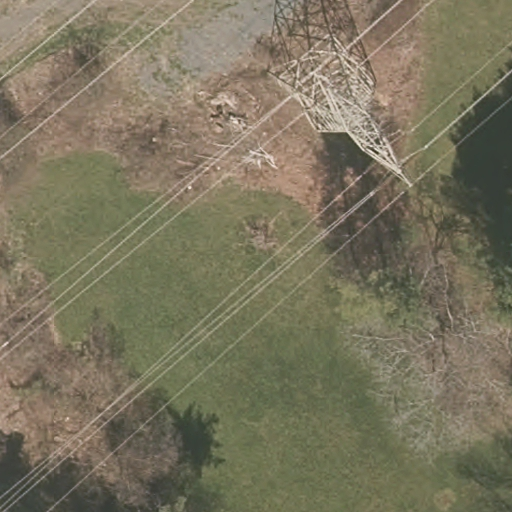TT: (279, 32, 416, 187)
